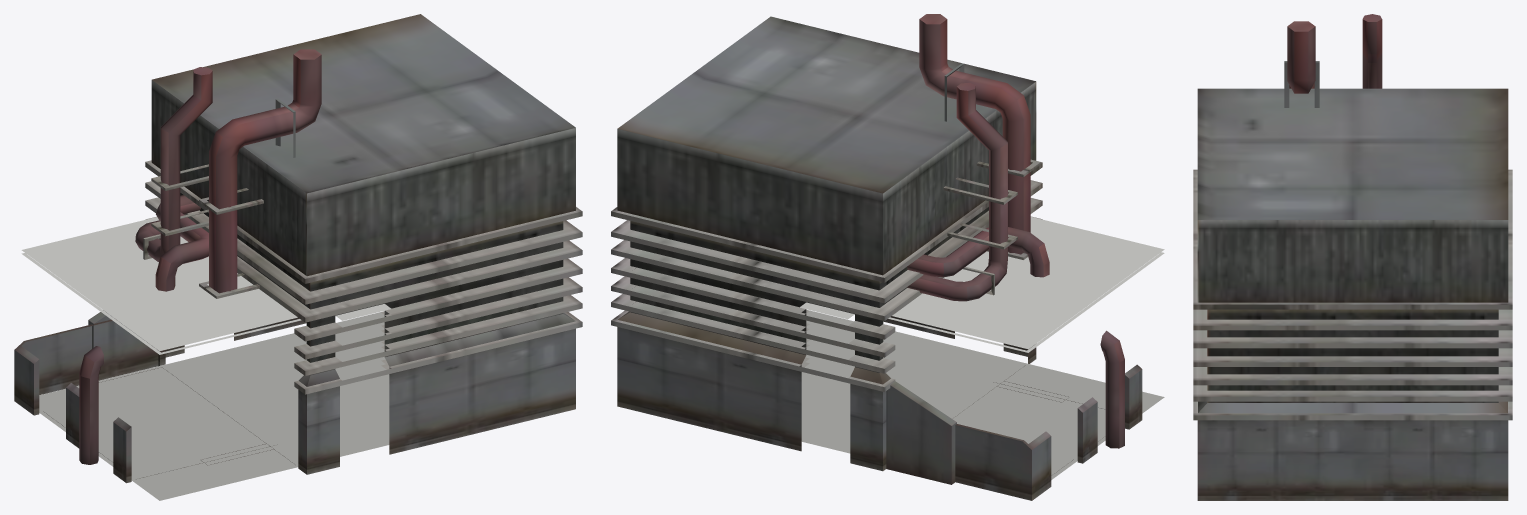
The model's file is ind-smith.access-v9.lod1.glb.
The picture shows the model from 3 angles, left to right: view 1: azimuth 30°, elevation 25°; view 2: azimuth 150°, elevation 25°; view 3: azimuth 270°, elevation 25°; orthographic projection.
Visible parts, largest first — view 1: Industrial_Smth_1_Industrial_Walls_FLR_1_0, Walkable floors and stairs (×2); view 2: Industrial_Smth_1_Industrial_Walls_FLR_1_0, Walkable floors and stairs (×2); view 3: Industrial_Smth_1_Industrial_Walls_FLR_1_0.
Part boxes in pixels (x1=…): Industrial_Smth_1_Industrial_Walls_FLR_1_0: x1=14, y1=14, x2=582, y2=483; Walkable floors and stairs (×2): x1=21, y1=217, x2=391, y2=500; Industrial_Smth_1_Industrial_Walls_FLR_1_0: x1=611, y1=14, x2=1142, y2=500; Walkable floors and stairs (×2): x1=799, y1=217, x2=1164, y2=479; Industrial_Smth_1_Industrial_Walls_FLR_1_0: x1=1193, y1=14, x2=1512, y2=500.
Bounding box in the file's own units: 18.34 × 15.04 × 11.8.
Materials: 3 (1 with a texture image).
